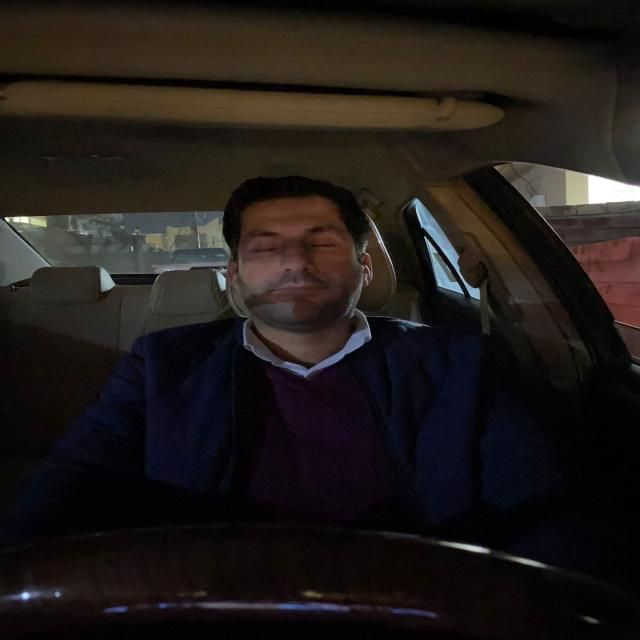drowsy: (212, 175, 382, 337)
